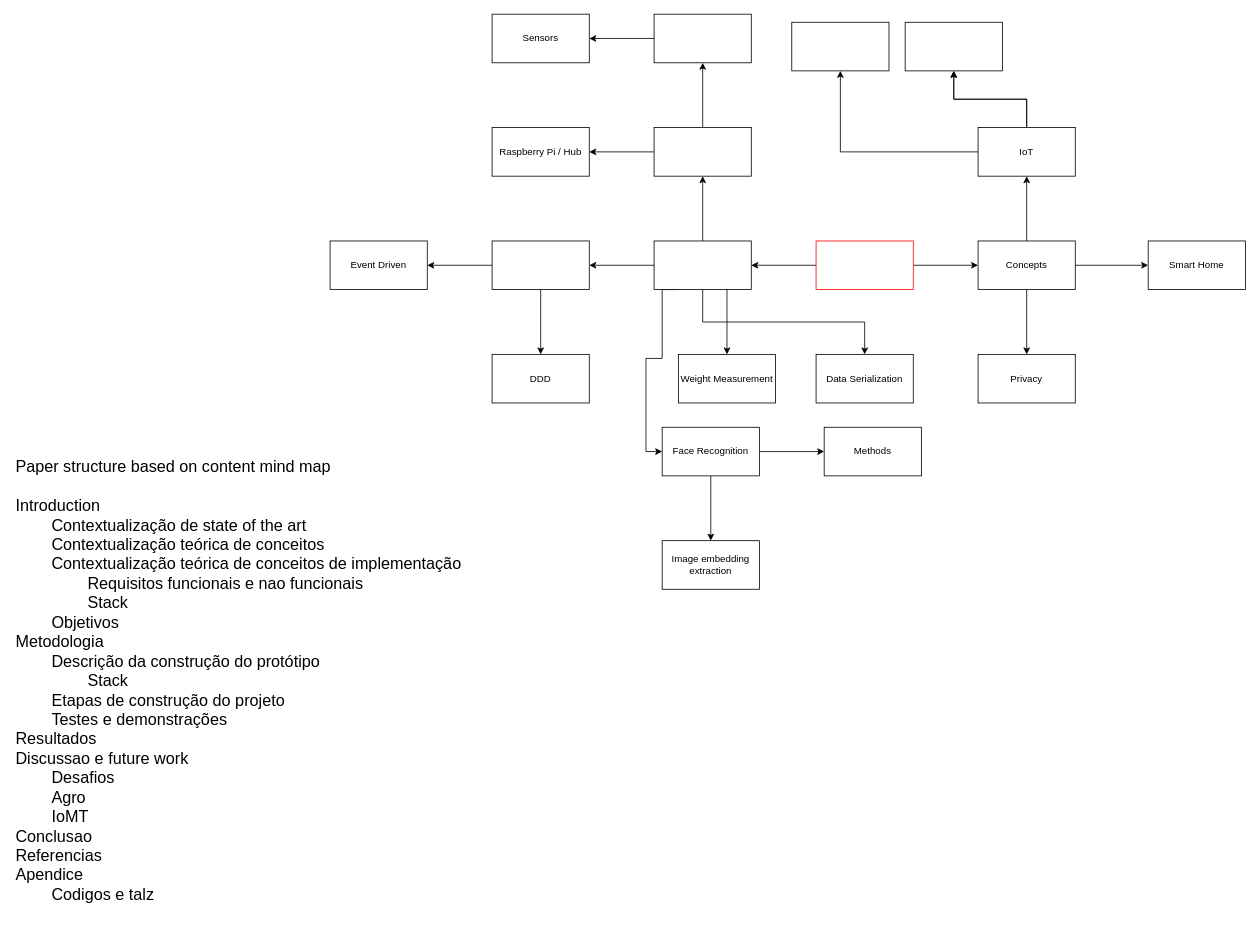
Some shapes in this 1260 by 944 pixel diagram are drawn without their labels. Here are the shapes that lost their labels. From the top down, the centre of each, then its label:
the point at 702,38: ESP32
the point at 840,46: Agro
the point at 953,46: IoMT
the point at 702,151: Infrastructure
the point at 540,265: Architecture
the point at 702,265: Implementation
the point at 864,265: An IoT Smart Scale PoC for Smart Homes
